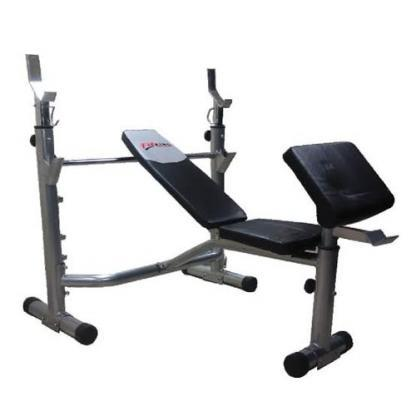arm curl machine: (22, 52, 400, 379)
